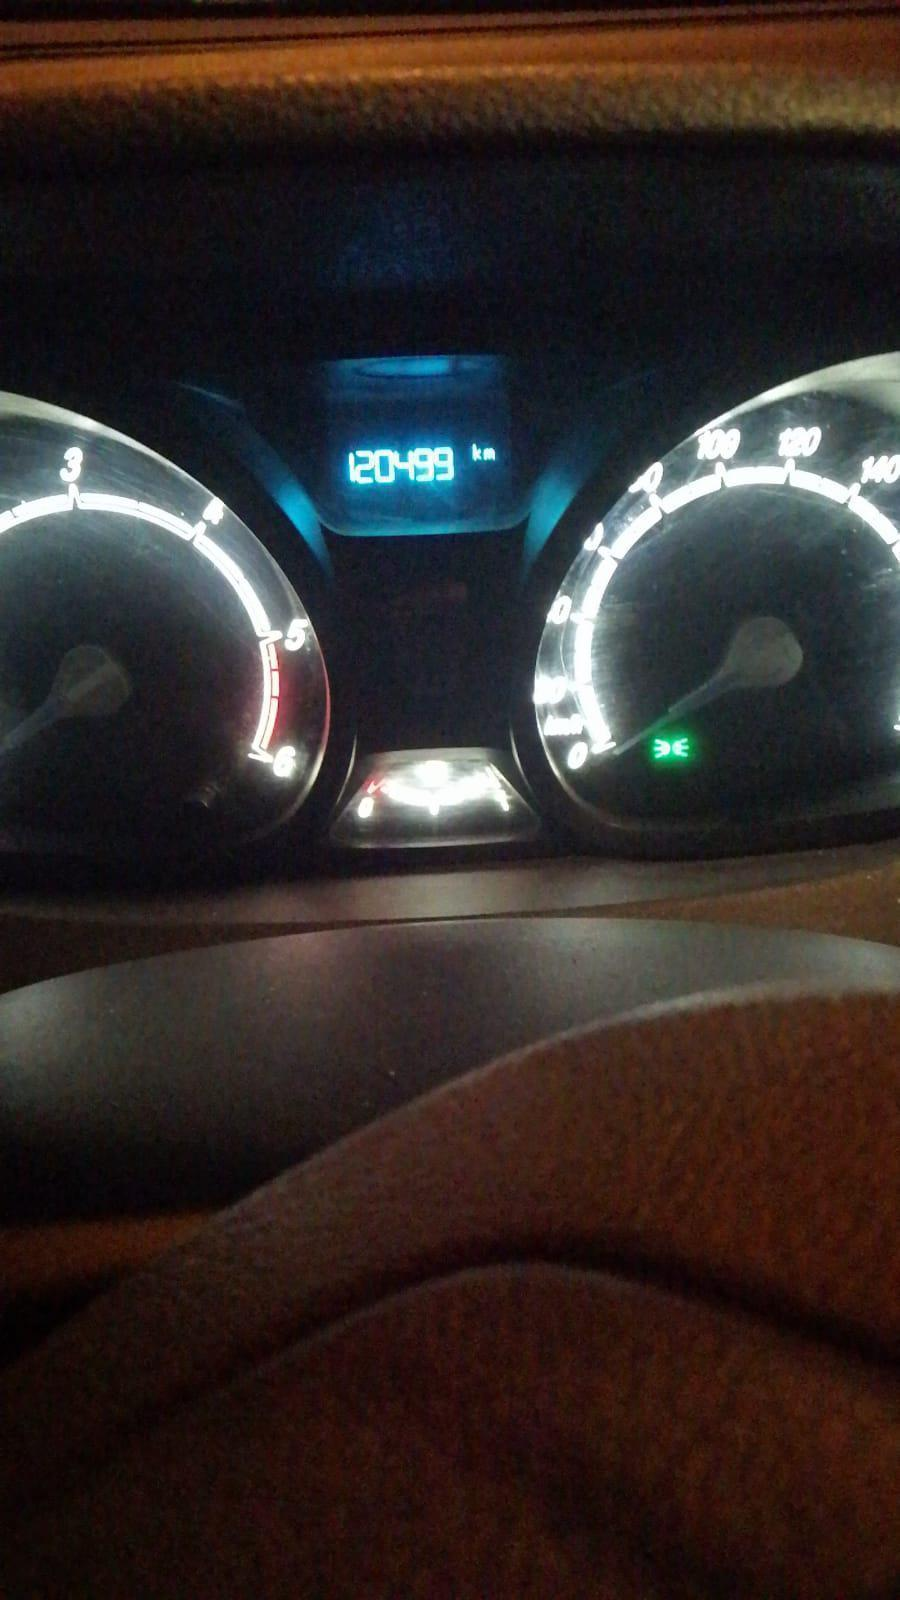0: (374, 448, 393, 484)
1: (345, 449, 355, 486)
2: (355, 448, 374, 486)
4: (392, 447, 416, 482)
9: (434, 446, 454, 480), (415, 446, 433, 481)
X: (470, 440, 482, 460), (482, 445, 496, 462)
odometer: (335, 421, 503, 504)
